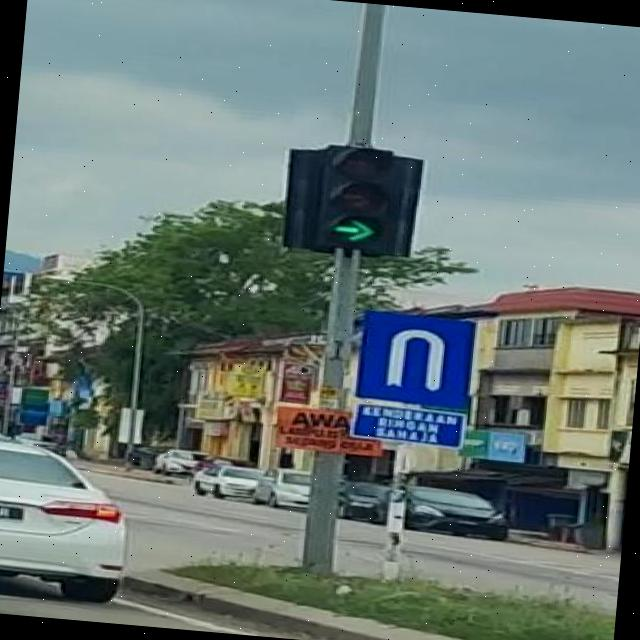green_light: (310, 144, 396, 248)
